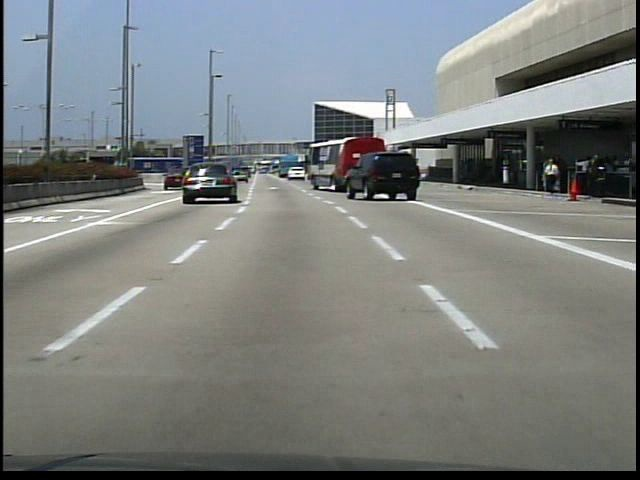person: (542, 157, 562, 197)
